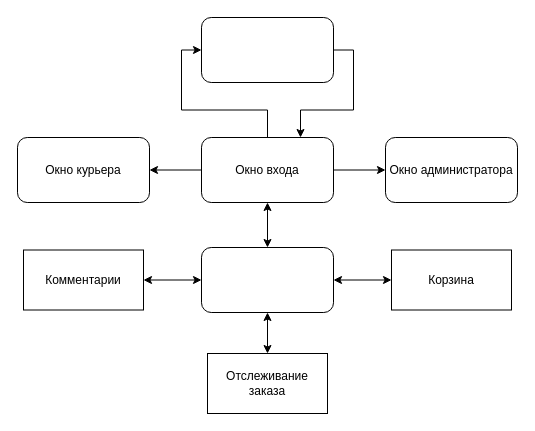
The diagram is 535 pixels wide and 431 high, and some of its shapes have lost their labels. The centre of each missing label's shape, as x and y in pixels:
Главное окно: the point at 267,279
Окно регистрации: the point at 267,49
